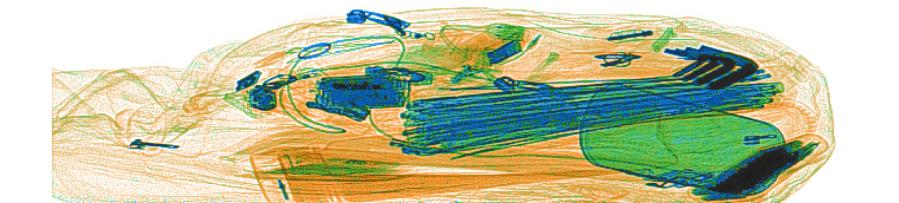battery: (311, 68, 411, 112)
